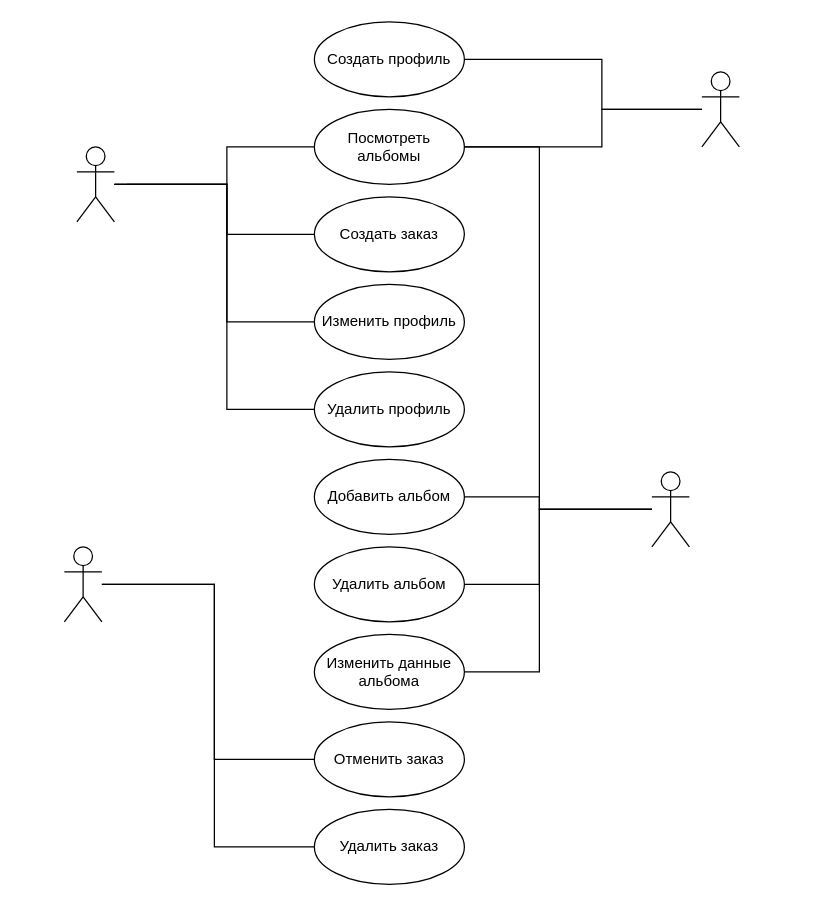
Some shapes in this 824 by 906 pixel diagram are drawn without their labels. The centre of each missing label's shape, as x and y in pixels:
Администратор: (82,584)
Зарегистрированный покупатель: (95,184)
Менаджер: (670,509)
Незарегистрированный пользователь: (720,109)
